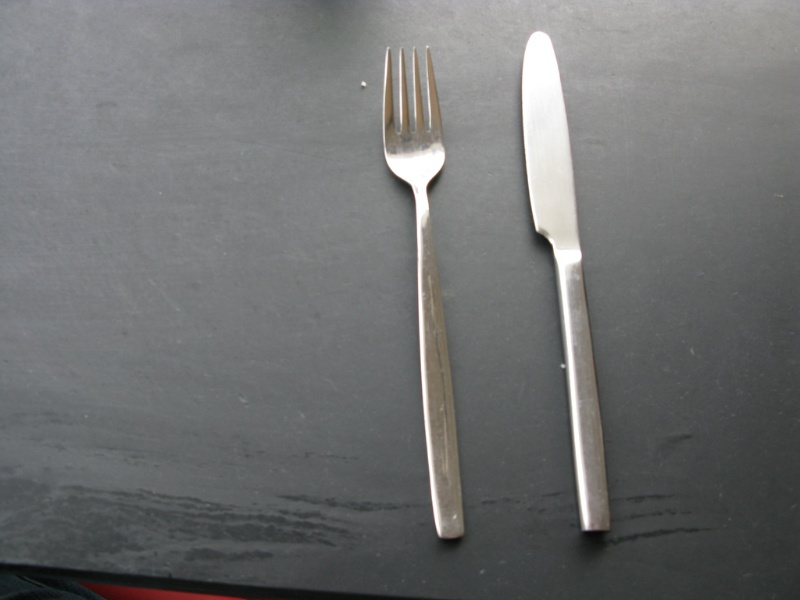knife: (519, 28, 616, 534)
